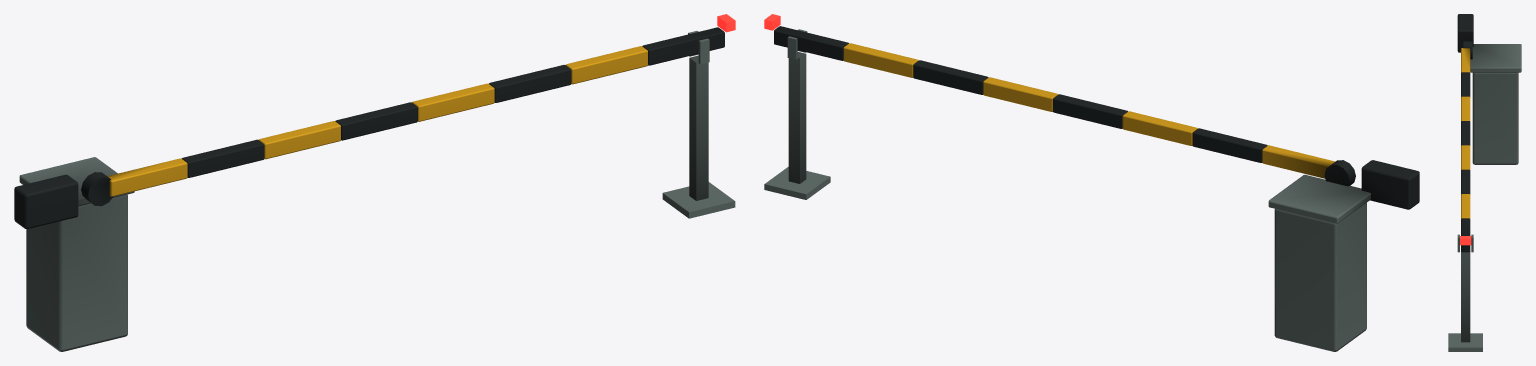
File: boom_barrier.glb
3 views of the same model, side by side, from view 1: azimuth 30°, elevation 25°; view 2: azimuth 150°, elevation 25°; view 3: azimuth 270°, elevation 25° (orthographic). The views are drawn at different scales.
Visible parts, largest first — view 1: BoomBarrier; view 2: BoomBarrier; view 3: BoomBarrier.
Part boxes in pixels (left/top/right/bottom): BoomBarrier: left=14, top=14, right=735, bottom=351; BoomBarrier: left=764, top=14, right=1419, bottom=351; BoomBarrier: left=1448, top=14, right=1521, bottom=351.
Bounding box in the file's own units: 4.64 × 1.11 × 0.635.
